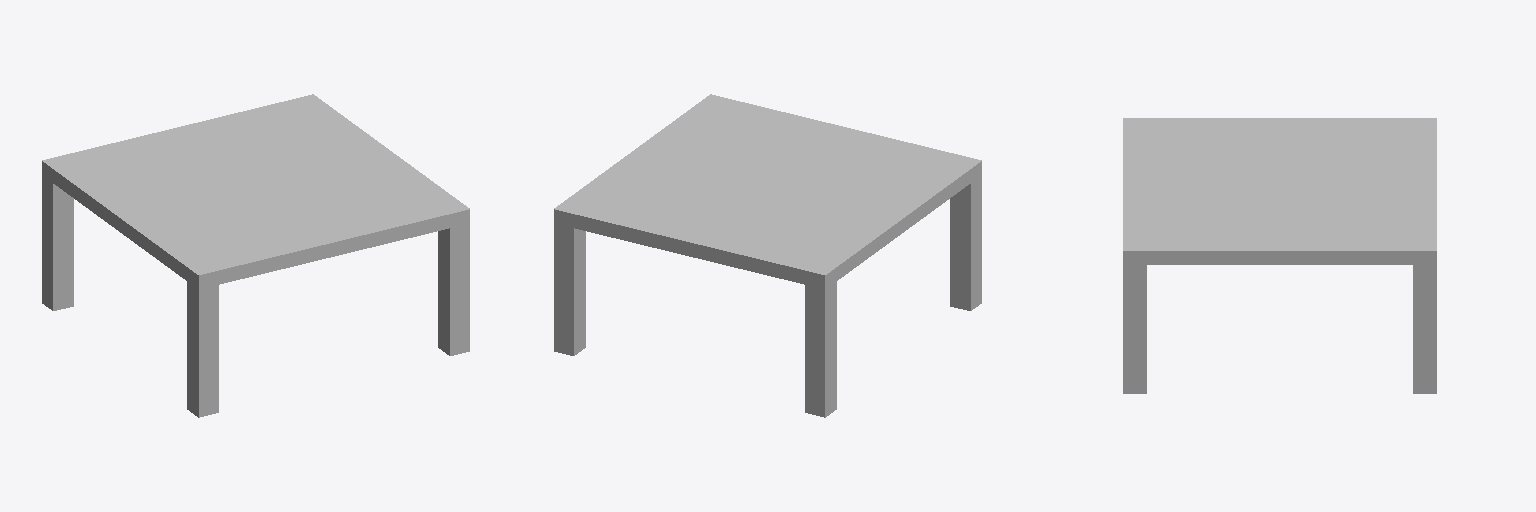
Rendered from TableSquare.obj.
The picture shows the model from 3 angles: view 1: azimuth 30°, elevation 25°; view 2: azimuth 150°, elevation 25°; view 3: azimuth 270°, elevation 25°; orthographic projection.
Parts seen in each view (by area): view 1: TableSquare; view 2: TableSquare; view 3: TableSquare.
Boxes of the visible parts, <box> form: TableSquare: <box>42,94,469,417</box>; TableSquare: <box>554,94,981,417</box>; TableSquare: <box>1123,118,1436,393</box>.
Size of the model in its own units: 2 by 1 by 2.